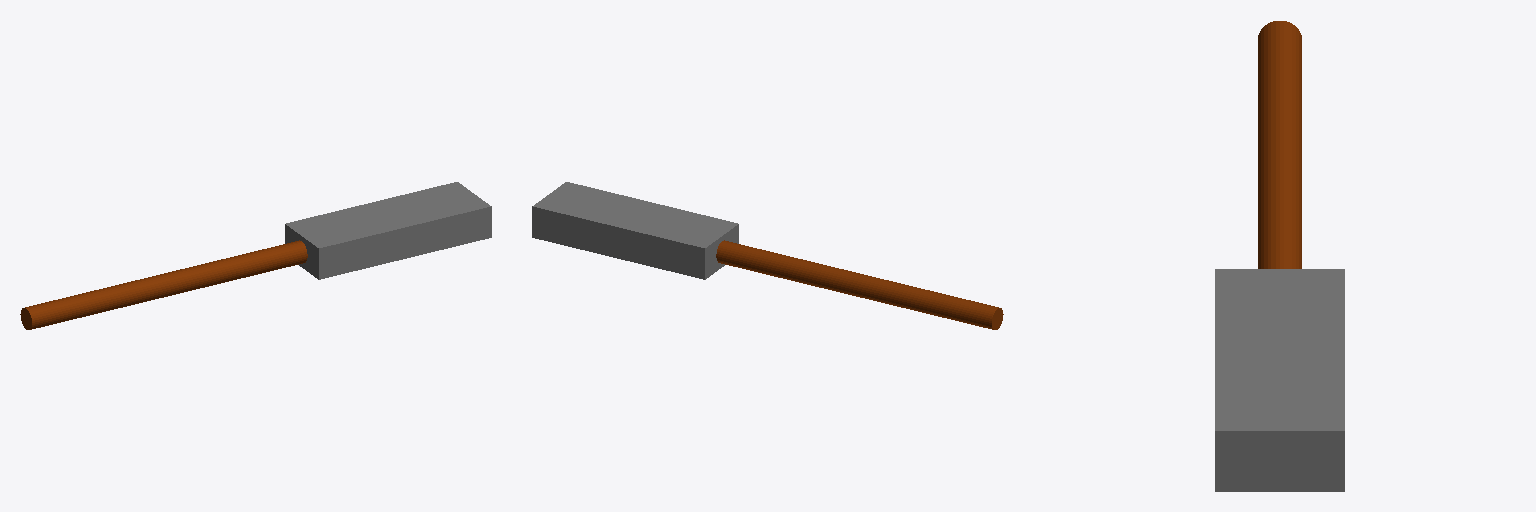
robot.urdf — handle_head:
<?xml version="1.0"?>
<robot name="handle_head">

  <link name="handle_head">
    <!-- Handle -->
    <visual>
              <origin xyz="0 0 0" rpy="0 -1.5707963267948966 0"/>
        <geometry>
          <cylinder length="0.1839492538104504" radius="0.006733210871496319"/>
        </geometry>
        
      <material name="brown">
        <color rgba="0.55 0.27 0.07 1.0"/>
      </material>
    </visual>
    <collision>
              <origin xyz="0 0 0" rpy="0 -1.5707963267948966 0"/>
        <geometry>
          <cylinder length="0.1839492538104504" radius="0.006733210871496319"/>
        </geometry>
        
    </collision>

    <!-- Head -->
    <visual>
              <origin xyz="0.14963105054560685 0 0" rpy="0 0 0"/>
        <geometry>
          <box size="0.1153128472807633 0.03928839810672508 0.020014758318850235"/>
        </geometry>
        
      <material name="gray">
        <color rgba="0.5 0.5 0.5 1.0"/>
      </material>
    </visual>
    <collision>
              <origin xyz="0.14963105054560685 0 0" rpy="0 0 0"/>
        <geometry>
          <box size="0.1153128472807633 0.03928839810672508 0.020014758318850235"/>
        </geometry>
        
    </collision>

    <inertial>
      <origin xyz="0.11769095713001727 0 0" rpy="0 0 0"/>
      <mass value="0.06717645611408514"/>
      <inertia ixx="8.88236493279349e-06" iyy="0.0003575062878513895" izz="0.00036253896139848993" ixy="0" ixz="0" iyz="0"/>
    </inertial>
  </link>

</robot>

--- Render facts (derived) ---
3 views of the same robot in one strip: view 1: azimuth 30°, elevation 25°; view 2: azimuth 150°, elevation 25°; view 3: azimuth 270°, elevation 25° (orthographic).
Robot: handle_head — 1 links, 0 joints (none); root link handle_head; default pose: all joints at 0.
Visible links, largest first — view 1: handle_head; view 2: handle_head; view 3: handle_head.
Link boxes in pixels (x1,y1,x2,y2): handle_head: [20, 182, 491, 329]; handle_head: [532, 182, 1003, 329]; handle_head: [1215, 21, 1344, 491].
Size in the robot's own frame: 0.2993 by 0.0393 by 0.02 metres.
Geometry: primitives only (box / cylinder / sphere), no mesh files.
